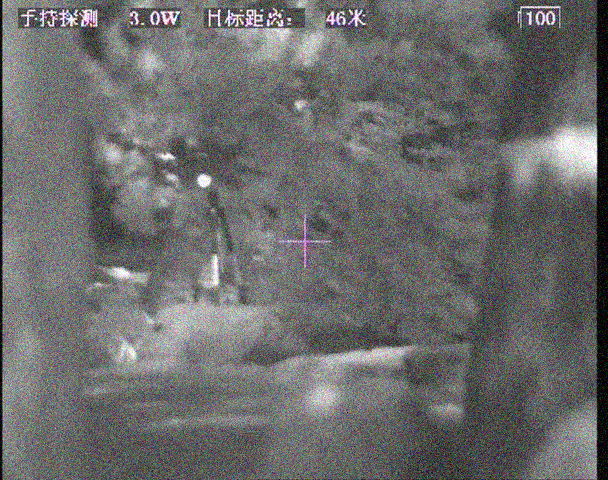my: (196, 174, 212, 189)
